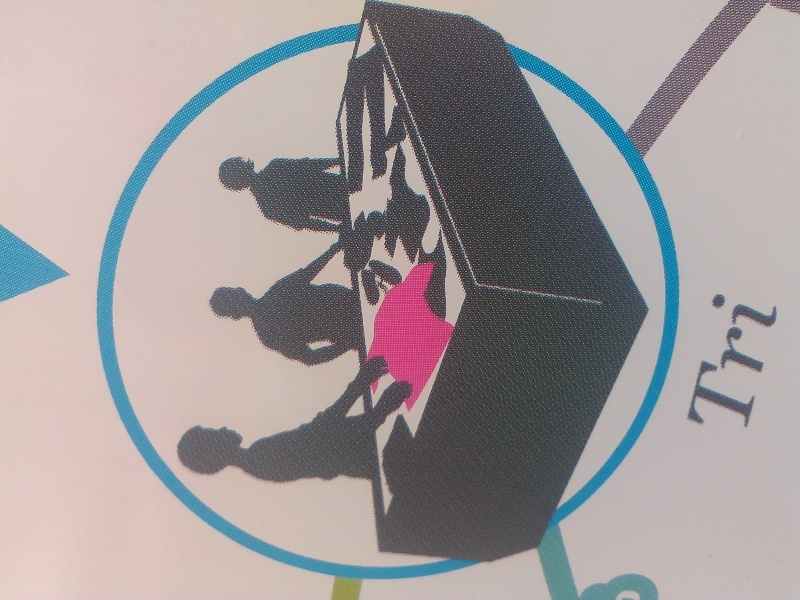text: (721, 283, 736, 442), (737, 283, 752, 442), (753, 283, 768, 442), (769, 283, 783, 442), (717, 283, 720, 442)
